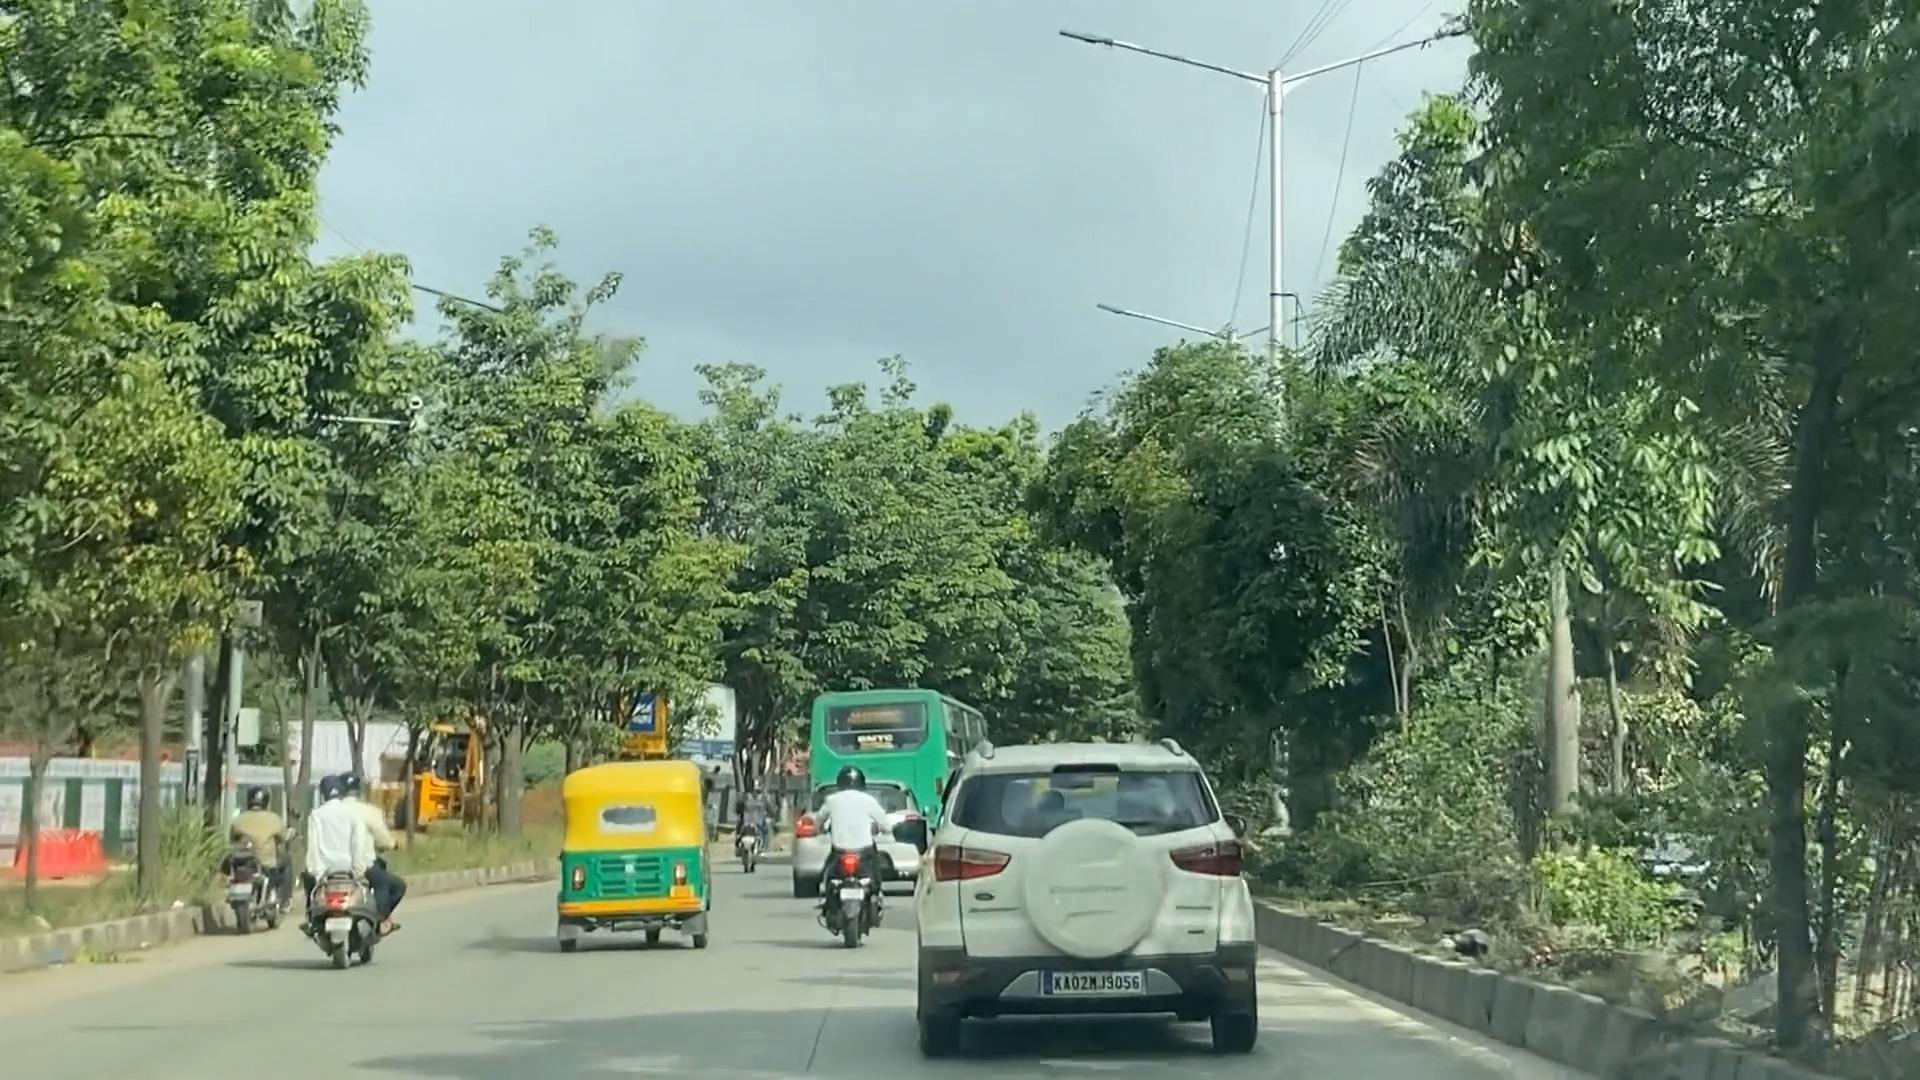LMV: (910, 725, 1275, 1065), (253, 699, 409, 1000), (526, 733, 694, 953), (700, 717, 829, 928), (777, 761, 927, 924)
